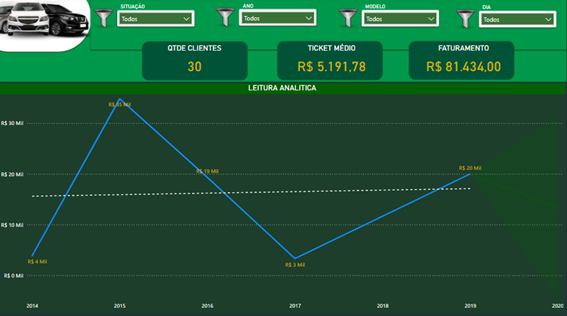

Layout of this report page (visuals, bound fields, positions):
{"tool":"powerbi","page":{"name":"PREVISAO","canvas":[1280,720],"ordinal":3},"visuals":[{"type":"lineChart","title":"LEITURA ANALITICA","fields":{"Category":["tb_km.DATA.Variation.Hierarquia de datas.Ano","tb_km.DATA.Variation.Hierarquia de datas.Trimestre","tb_km.DATA.Variation.Hierarquia de datas.Mês","tb_km.DATA.Variation.Hierarquia de datas.Dia"],"Y":["Sum(tb_km.TT VENDA)"]},"box":[1.4,191.5,1274.4,518.4],"z":0},{"type":"slicer","fields":{"Values":["tb_km.SITUAÇÃO CADASTRAL"]},"box":[262.1,7.2,184.3,69.1],"z":1},{"type":"slicer","fields":{"Values":["tb_km.ANO"]},"box":[537.1,5.8,184.3,69.1],"z":2},{"type":"slicer","fields":{"Values":["tb_km.MODELO"]},"box":[812.2,7.2,184.3,69.1],"z":3},{"type":"slicer","fields":{"Values":["tb_km.DIA"]},"box":[1075.7,8.6,184.3,69.1],"z":4},{"type":"card","title":"QTDE CLIENTES","fields":{"Values":["tb_km.QTDE CLIENTES"]},"box":[345.6,102.2,191.5,79.2],"z":5},{"type":"card","title":"TICKET MÉDIO","fields":{"Values":["medidas.Medida ticket medido salario"]},"box":[652.3,102.2,194.4,79.2],"z":6},{"type":"card","title":"FATURAMENTO","fields":{"Values":["tb_km.FAT MEDIA"]},"box":[949,102.2,194.4,79.2],"z":7}]}

Visuals, with their boxes in screenshot pixels (x1, y1, x2, y2), scaled from the page's 1280x720 canvas onto the 567x316 screenshot:
"LEITURA ANALITICA" lineChart: (1, 84, 565, 312)
slicer - tb_km.SITUAÇÃO CADASTRAL: (116, 3, 198, 33)
slicer - tb_km.ANO: (238, 3, 320, 33)
slicer - tb_km.MODELO: (360, 3, 441, 33)
slicer - tb_km.DIA: (477, 4, 558, 34)
"QTDE CLIENTES" card: (153, 45, 238, 80)
"TICKET MÉDIO" card: (289, 45, 375, 80)
"FATURAMENTO" card: (420, 45, 506, 80)
